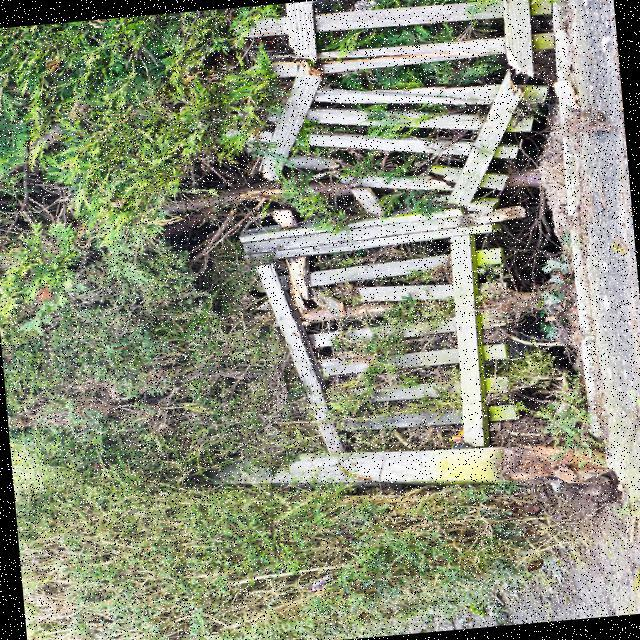fence line: (232, 54, 598, 464), (234, 56, 594, 462)
